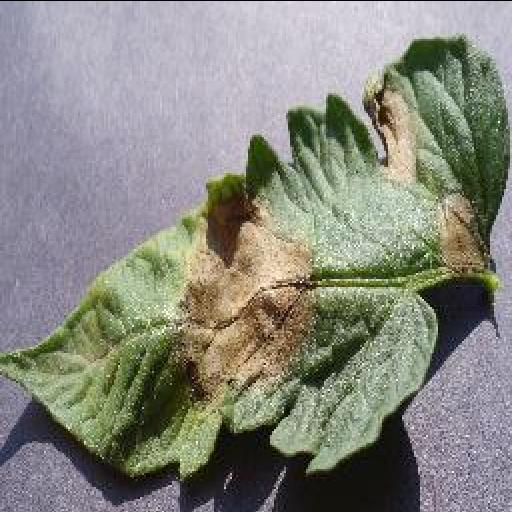disease_tomato: (0, 31, 512, 481)
